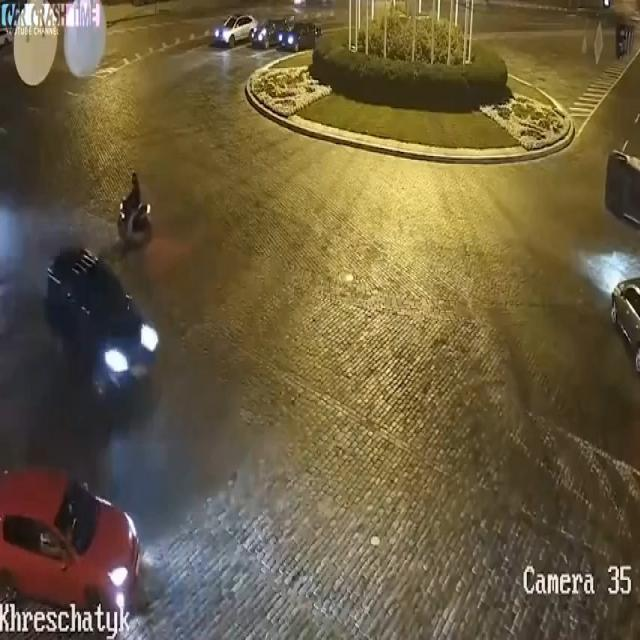Accident: (610, 92, 640, 225)
